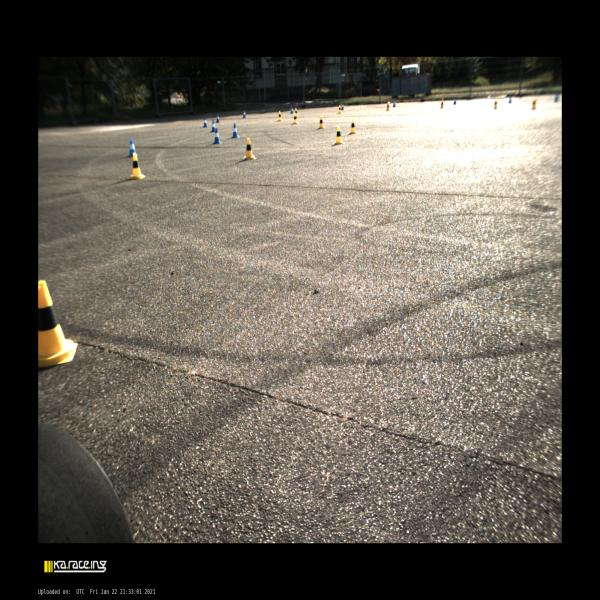blue_cone: (128, 139, 139, 157), (214, 128, 222, 144), (231, 124, 239, 138), (210, 120, 216, 132), (202, 117, 208, 127), (215, 113, 220, 123), (242, 110, 246, 118), (290, 106, 294, 114), (392, 100, 396, 107), (342, 103, 344, 110)
yellow_cone: (38, 280, 78, 369), (130, 152, 145, 180), (243, 138, 256, 159), (334, 126, 343, 144), (350, 120, 356, 134), (318, 116, 324, 128), (292, 113, 298, 124), (277, 110, 282, 121), (294, 107, 298, 116), (440, 100, 444, 109), (386, 102, 390, 110), (338, 104, 341, 114)
